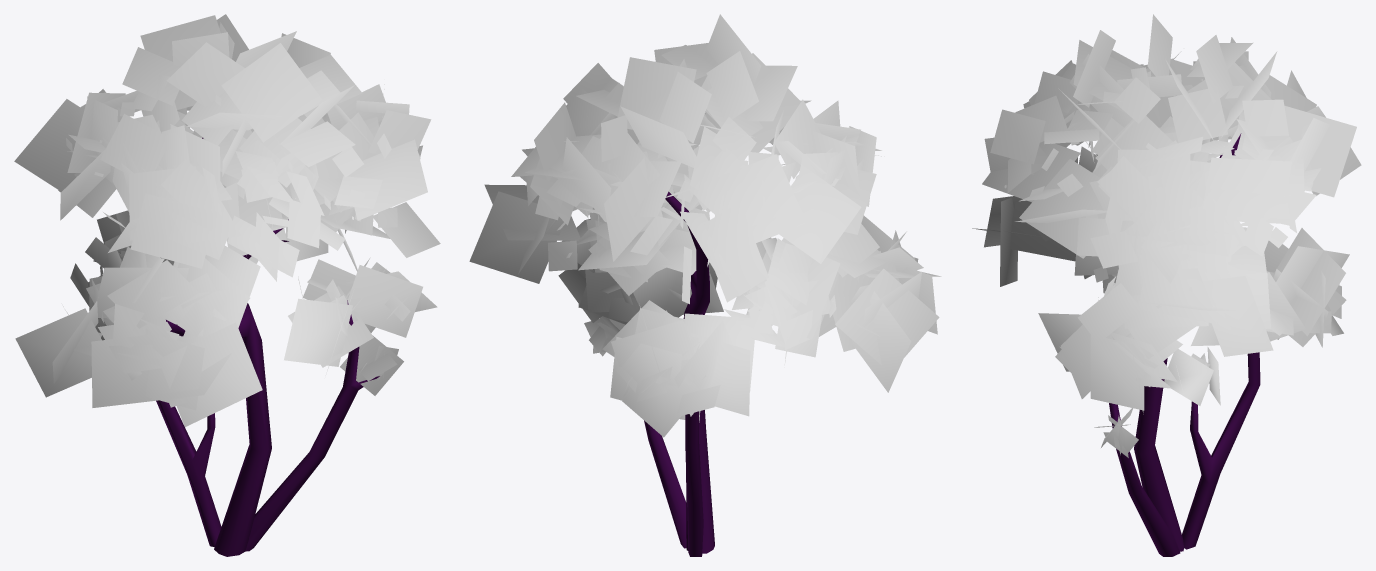
The model's file is m_TreeSmall1_LOD1.fbx.
3 renders of one model, left to right at view 1: azimuth 30°, elevation 25°; view 2: azimuth 150°, elevation 25°; view 3: azimuth 270°, elevation 25°, orthographic. The views are drawn at different scales.
Parts seen in each view (by area): view 1: TreeSmall1_LOD1; view 2: TreeSmall1_LOD1; view 3: TreeSmall1_LOD1.
Boxes of the visible parts, box(x1,y1,x2,y2) form: TreeSmall1_LOD1: box(14, 14, 440, 556); TreeSmall1_LOD1: box(469, 14, 941, 556); TreeSmall1_LOD1: box(972, 14, 1361, 556).
Bounding box in the file's own units: 1015 × 1202 × 812.
